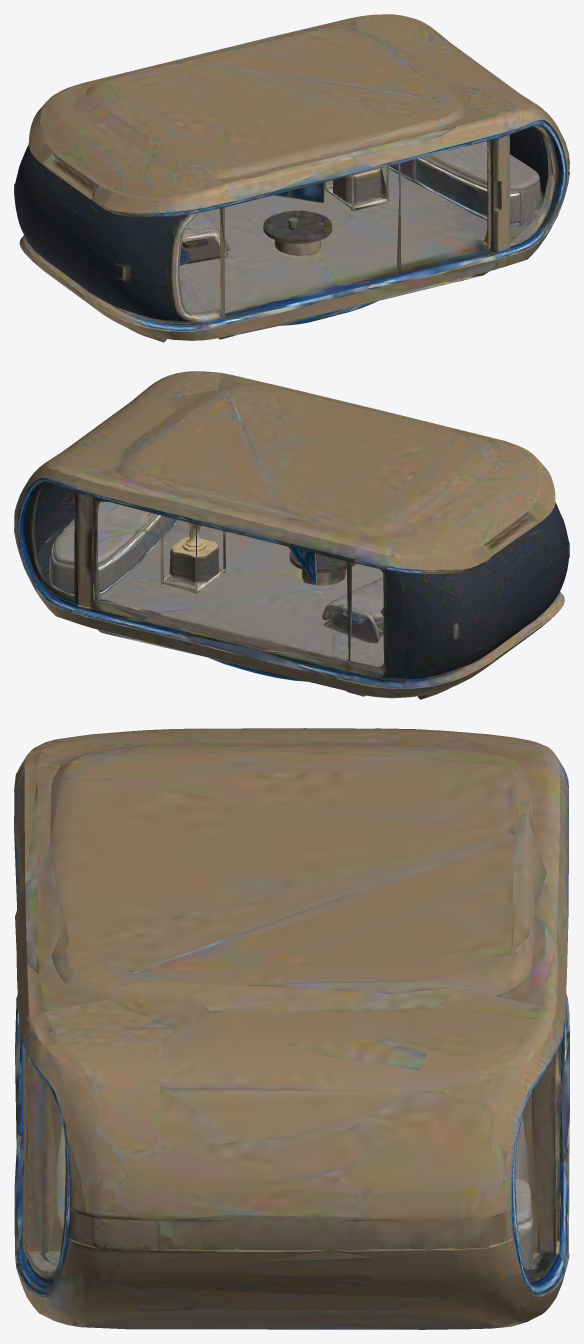
The model's file is cabin_vip.glb.
3 renders of one model, top to bottom at view 1: azimuth 30°, elevation 25°; view 2: azimuth 150°, elevation 25°; view 3: azimuth 270°, elevation 25°, orthographic. The views are drawn at different scales.
Visible parts, largest first — view 1: Mesh_0; view 2: Mesh_0; view 3: Mesh_0.
Part boxes in pixels (box(x1,y1,x2,y2)): Mesh_0: box(14, 14, 569, 342); Mesh_0: box(14, 371, 569, 699); Mesh_0: box(14, 728, 569, 1329).
Bounding box in the file's own units: 1.9 × 0.7026 × 1.08.
1 material, 1 textured.
